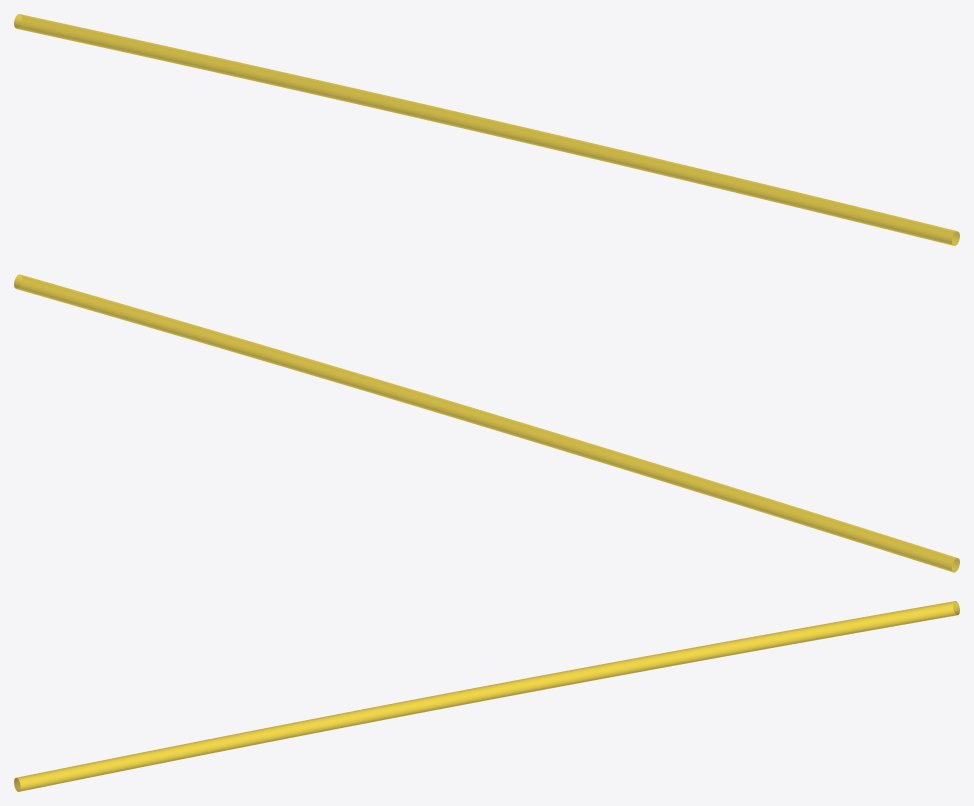
Rendered from Event_40932208_track_6.fbx.
The picture shows the model from 3 angles, top to bottom: view 1: azimuth 30°, elevation 25°; view 2: azimuth 210°, elevation 25°; view 3: azimuth 270°, elevation 25°; orthographic projection. The views are drawn at different scales.
Parts seen in each view (by area): view 1: Model; view 2: Model; view 3: Model.
Part boxes in pixels (x1,y1,x2,y2): Model: [14, 14, 959, 245]; Model: [14, 274, 959, 572]; Model: [14, 601, 959, 791].
Size of the model in its own units: 1.4 by 0.1371 by 2.62.
